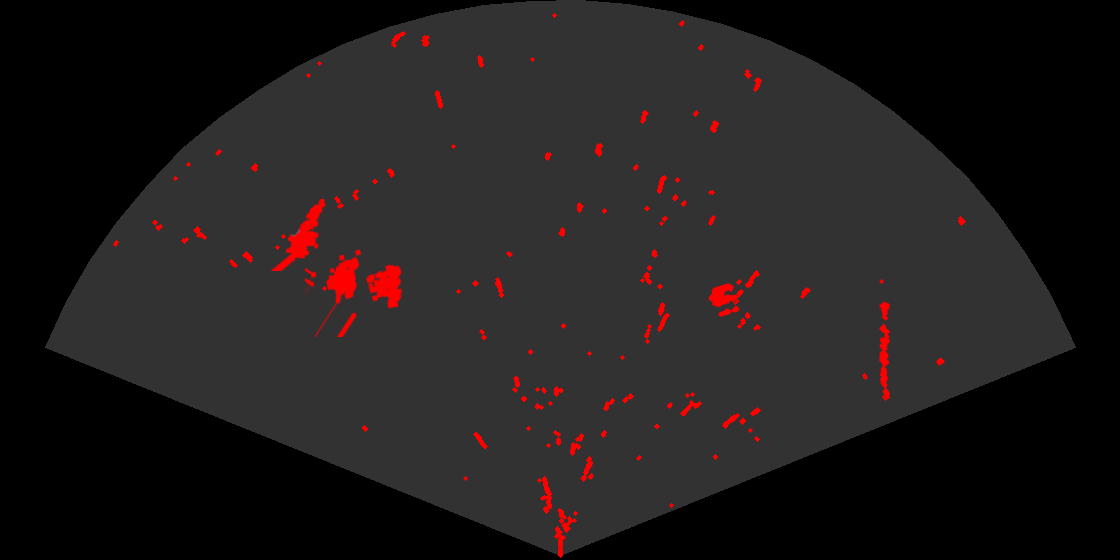ball: (707, 282, 741, 318)
cage: (305, 247, 404, 337)
chain: (877, 299, 892, 400)
frogman: (269, 197, 327, 271)
